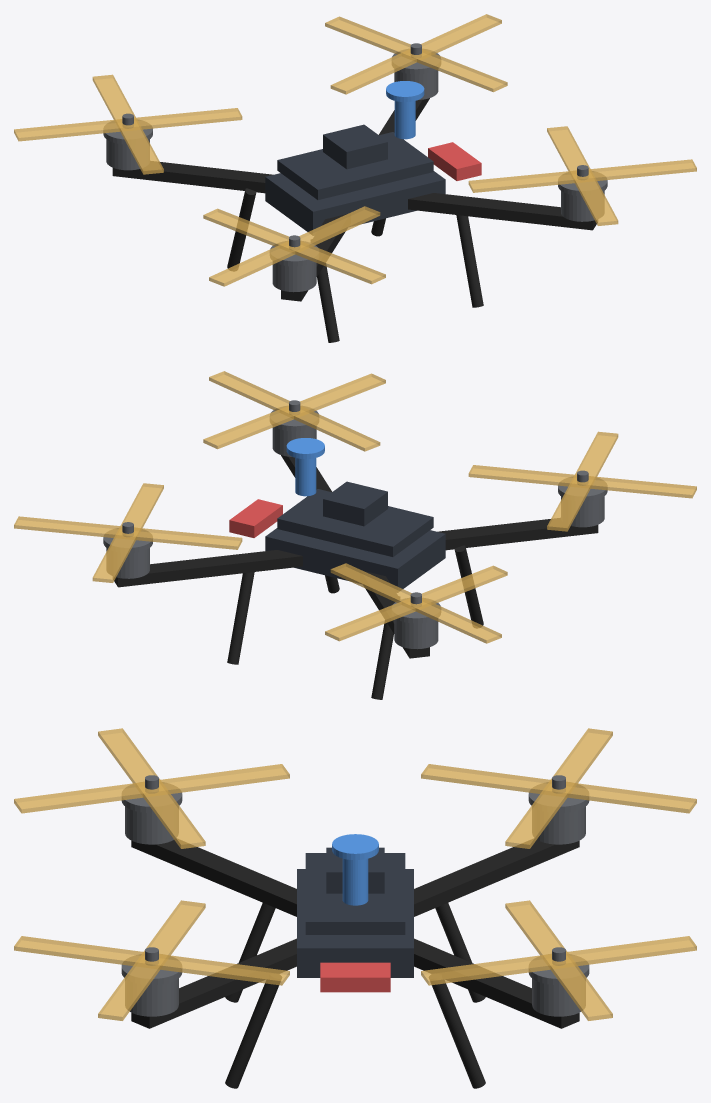
The model's file is drone.glb.
3 renders of one model, top to bottom at view 1: azimuth 30°, elevation 25°; view 2: azimuth 150°, elevation 25°; view 3: azimuth 270°, elevation 25°, orthographic. The views are drawn at different scales.
Parts seen in each view (by area): view 1: Cube.004, Cube, Cube.001, Cube.007, Cube.009, Cube.006, Cube.012, Cube.011, Cube.005, Cube.010, Cube.008, Cube.002 (+15 smaller); view 2: Cube.003, Cube, Cube.001, Cube.011, Cube.005, Cube.008, Cube.010, Cube.007, Cube.009, Cube.006, Cube.012, Cube.002 (+15 smaller); view 3: Cube.003, Cube.004, Cube.001, Cube, Cube.006, Cube.008, Cube.012, Cube.010, Cube.007, Cube.009, Cube.011, Cube.005 (+16 smaller).
Boxes of the visible parts, <box> form: Cube.004: <box>112,161,597,230</box>; Cube: <box>265,171,445,235</box>; Cube.001: <box>277,132,433,199</box>; Cube.007: <box>14,108,242,141</box>; Cube.009: <box>468,159,696,192</box>; Cube.006: <box>325,16,507,92</box>; Cube.012: <box>203,208,385,284</box>; Cube.011: <box>209,206,380,286</box>; Cube.005: <box>330,14,501,94</box>; Cube.010: <box>547,126,618,225</box>; Cube.008: <box>92,74,163,174</box>; Cube.002: <box>323,124,387,169</box>; Cube.003: <box>113,518,598,587</box>; Cube: <box>265,528,445,592</box>; Cube.001: <box>277,489,433,556</box>; Cube.011: <box>468,465,696,498</box>; Cube.005: <box>14,516,242,549</box>; Cube.008: <box>325,565,507,641</box>; Cube.010: <box>203,373,385,449</box>; Cube.007: <box>330,563,501,643</box>; Cube.009: <box>209,371,380,451</box>; Cube.006: <box>92,483,163,582</box>; Cube.012: <box>547,431,618,531</box>; Cube.002: <box>323,481,387,526</box>; Cube.003: <box>131,838,579,1028</box>; Cube.004: <box>131,838,579,1028</box>; Cube.001: <box>305,853,405,934</box>; Cube: <box>297,869,413,977</box>; Cube.006: <box>421,936,696,985</box>; Cube.008: <box>421,764,696,813</box>; Cube.012: <box>14,764,289,813</box>; Cube.010: <box>14,936,289,985</box>; Cube.007: <box>505,728,612,848</box>; Cube.009: <box>98,900,205,1020</box>; Cube.011: <box>98,728,205,848</box>; Cube.005: <box>505,900,612,1020</box>.
Bounding box in the file's own units: 0.5838 × 0.2167 × 0.5838.
